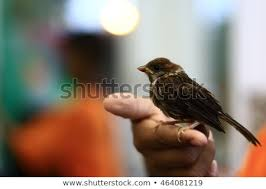hsparrow: (134, 54, 261, 156)
